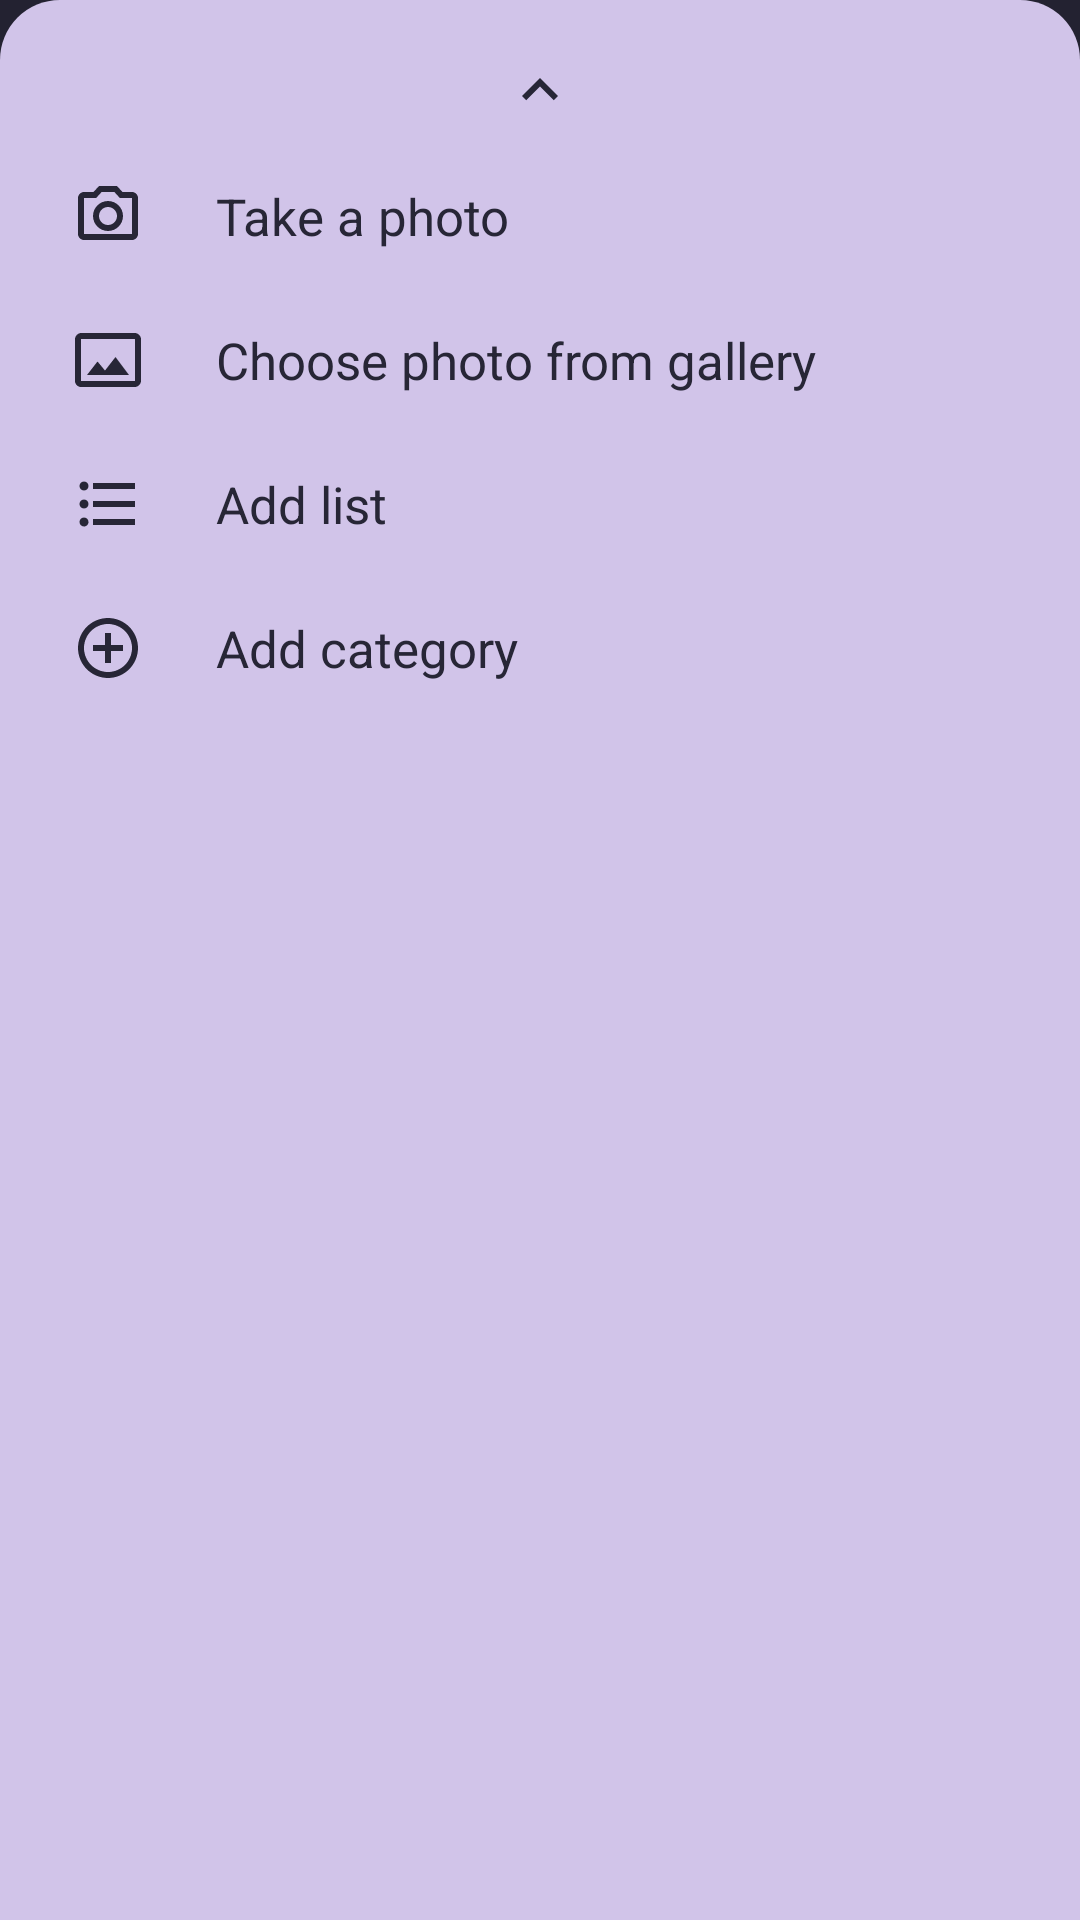

Screen size 1080w x 1920h. Icon name, then its center in pixels as [x,y]:
bullet list: [107,504]
camera: [108,213]
up arrow: [540,89]
